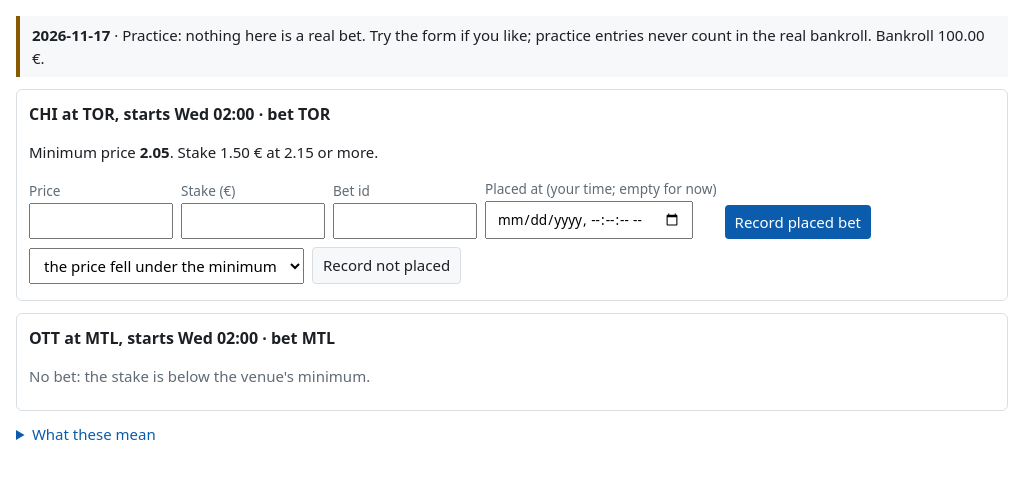
Scenario: the database's refusal is shown, and nothing is recorded
This screenshot has width=1024, height=484.
Select "not matched" in the dropdown at (166, 266), box [29, 248, 304, 284]
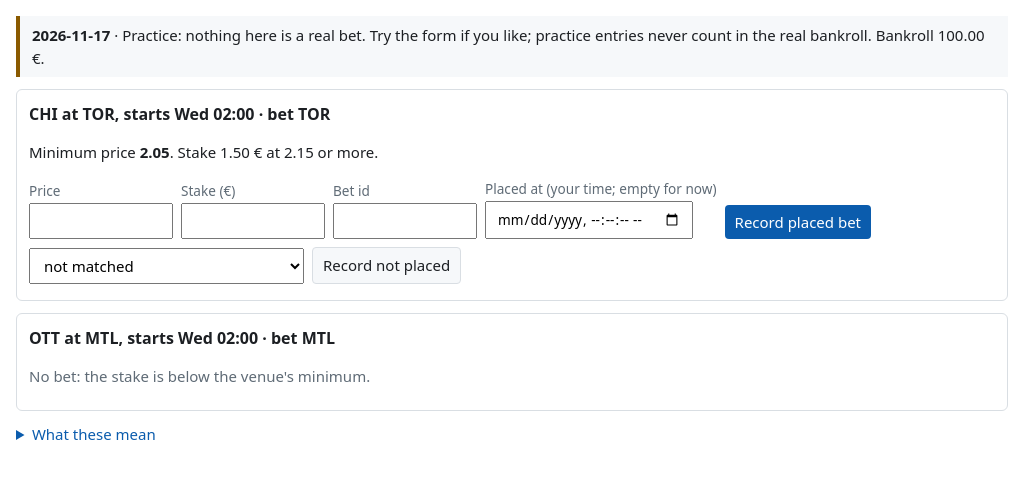
Click the button "Record not placed".
click(387, 266)  # box [312, 247, 461, 284]
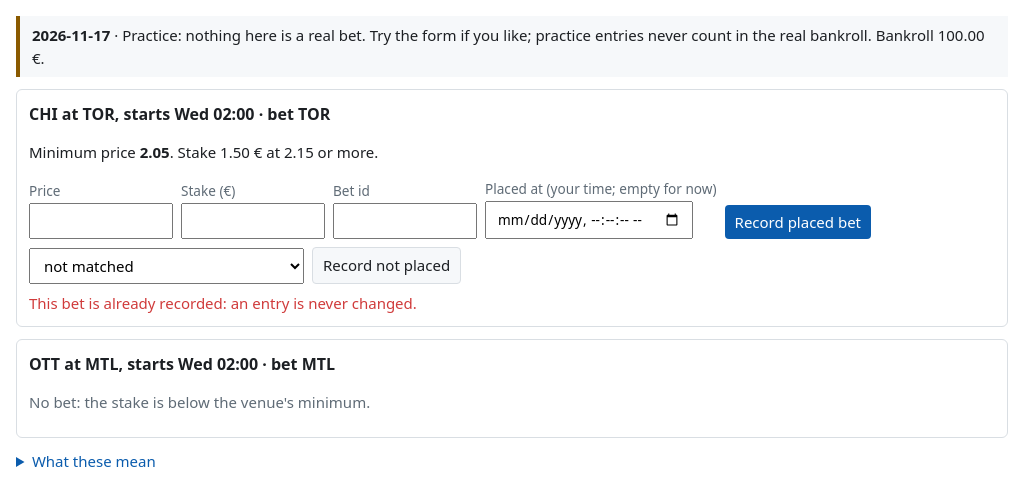
Now the message reads "This bet is already recorded: an entry is never changed.", box [29, 293, 417, 313]
